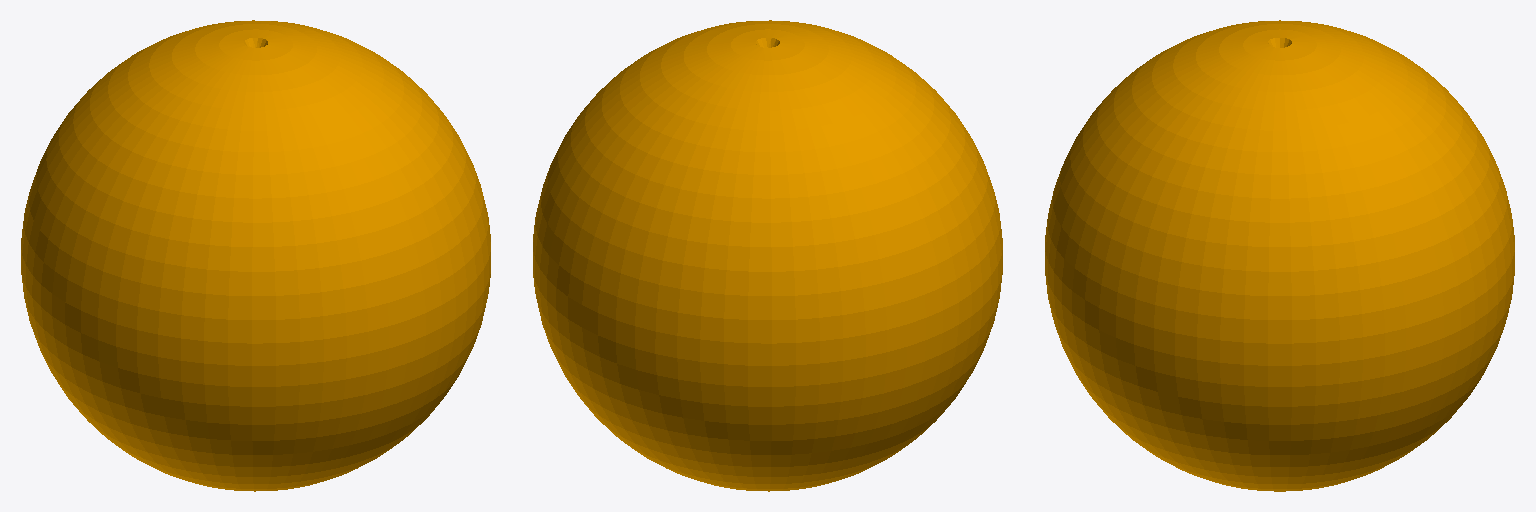
URDF robot description (kendama_ball):
<?xml version="1.0" ?>
<robot name="kendama_ball">

<material name="silver">
  <color rgba="0.700 0.700 0.700 1.000"/>
</material>

<link name="base_link">
  <inertial>
    <origin rpy="0 0 0" xyz="-7.549920042196525e-06 -7.752046099251671e-13 0.14800935009670818"/>
    <mass value="0.08210370012115252"/>
    <inertia ixx="3.0125439904344926e-05" ixy="-1.1960360562673797e-20" ixz="1.9760749263850793e-18" iyy="3.012543990434384e-05" iyz="5.131617174158884e-18" izz="3.1647218958006576e-05"/>
  </inertial>
  <visual>
    <origin rpy="0 0 0" xyz="0 0 0"/>
    <geometry>
      <mesh filename="meshes/base_link.stl" scale="0.0015 0.0015 0.0015"/>
    </geometry>
    <material name="silver"/>
    <material/>
  </visual>
  <collision>
    <origin rpy="0 0 0" xyz="0 0 0"/>
    <geometry>
      <mesh filename="meshes/base_link.stl" scale="0.0015 0.0015 0.0015"/>
    </geometry>
  </collision>
</link>

</robot>

--- Facts derived from the render (not from the file) ---
The picture shows the robot from 3 angles, left to right: view 1: azimuth 30°, elevation 25°; view 2: azimuth 150°, elevation 25°; view 3: azimuth 270°, elevation 25°; orthographic projection.
Robot: kendama_ball — 1 links, 0 joints (none); root link base_link; default pose: all joints at 0.
Links seen in each view (by area): view 1: base_link; view 2: base_link; view 3: base_link.
Boxes of the visible links, left/top/right/bottom form: base_link: left=21, top=20, right=490, bottom=491; base_link: left=533, top=20, right=1002, bottom=491; base_link: left=1045, top=20, right=1514, bottom=491.
Size in the robot's own frame: 0.0903 by 0.0903 by 0.0873 metres.
Meshes: 1 distinct files referenced, 1 mesh visuals loaded (1 binary STL).